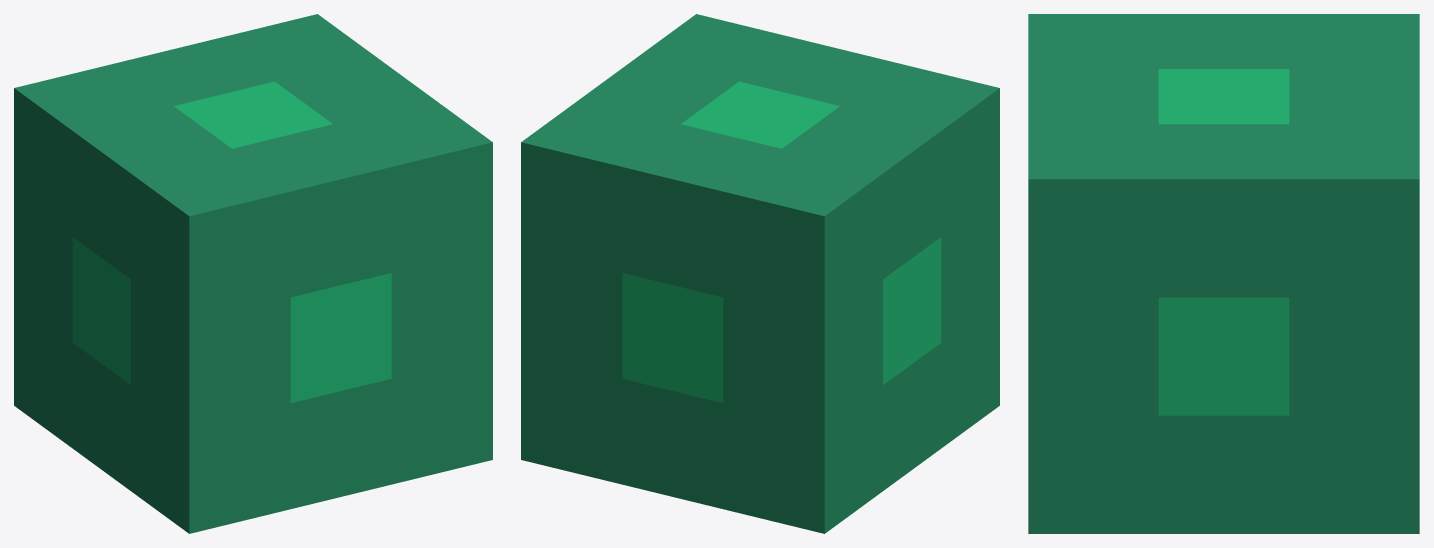
File: bush.obj
The picture shows the model from 3 angles, left to right: view 1: azimuth 30°, elevation 25°; view 2: azimuth 150°, elevation 25°; view 3: azimuth 270°, elevation 25°; orthographic projection. The views are drawn at different scales.
Bounding box in the file's own units: 0.3 × 0.3 × 0.3.
Materials: 1 (1 with a texture image).
